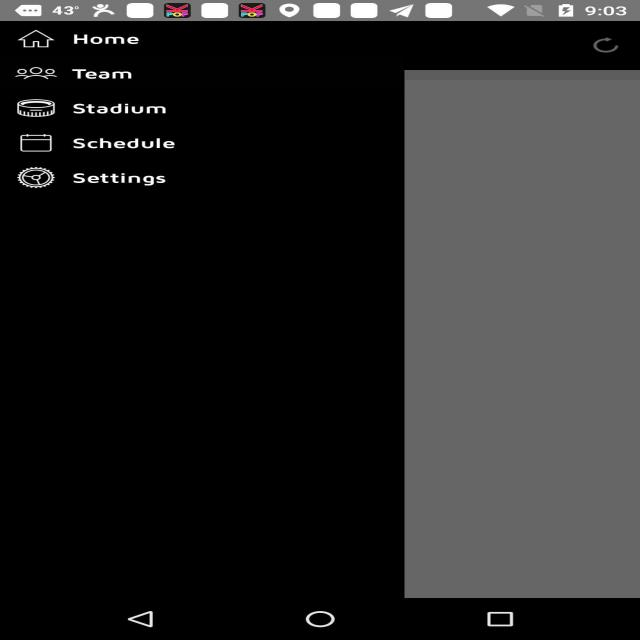button: (17, 25, 202, 204)
